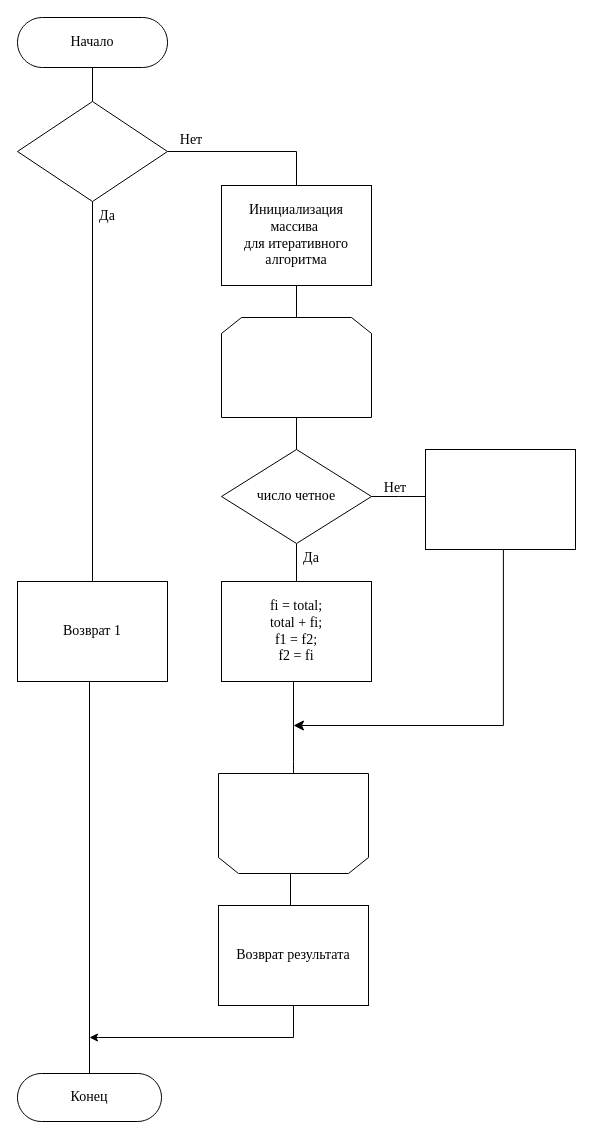
The diagram is 593 pixels wide and 1139 high, and some of its shapes have lost their labels. Each missing label, with the centre of its shape:
"f2+f1" goes at point 500,499.
"цикл от 3 до n" goes at point 293,823.
"цикл от 3 до n, i > n" goes at point 296,367.
"число < 3?" goes at point 92,151.
